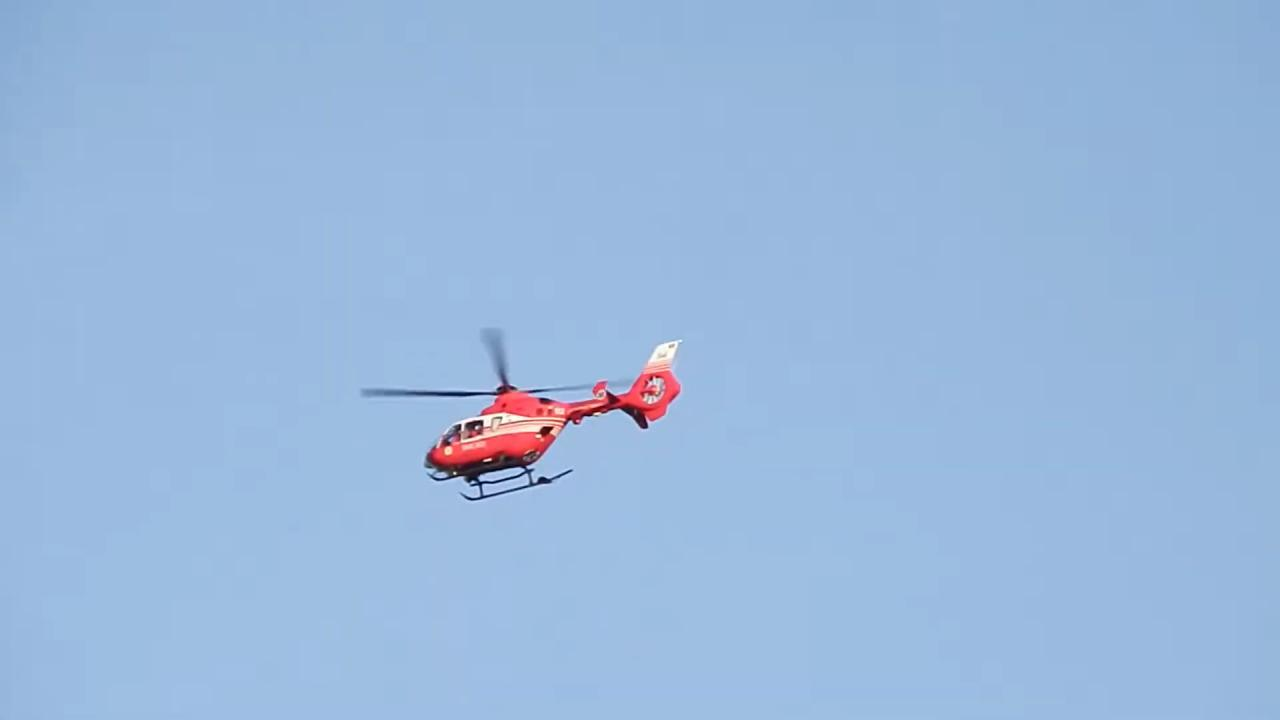Helicopter: (334, 295, 720, 546)
